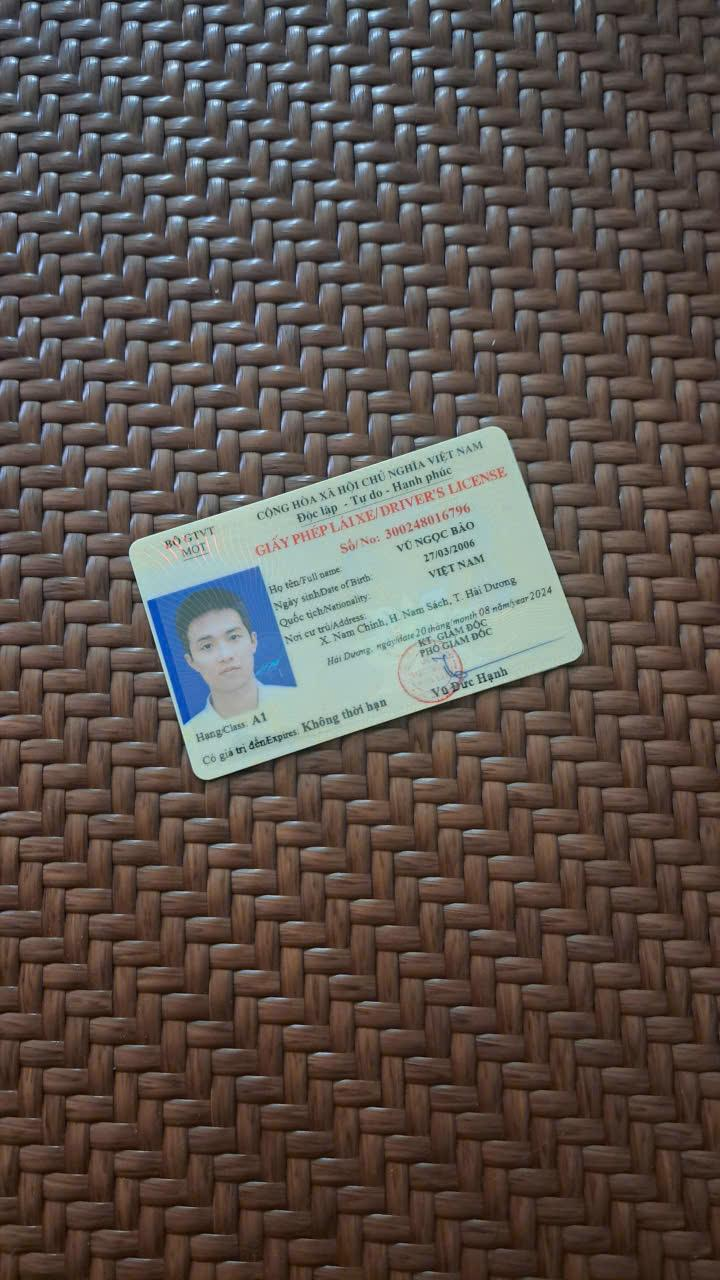gplx: (122, 419, 590, 790)
